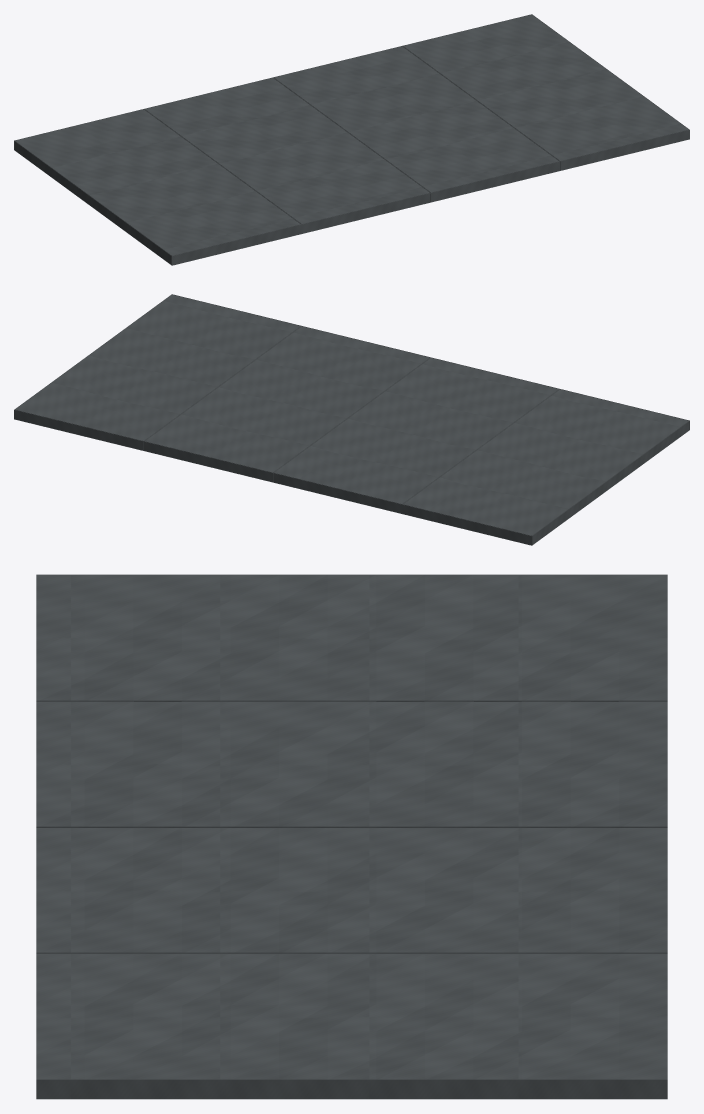
File: retreat_global_a4_roof.glb
The picture shows the model from 3 angles, top to bottom: view 1: azimuth 30°, elevation 25°; view 2: azimuth 150°, elevation 25°; view 3: azimuth 270°, elevation 25°; orthographic projection. The views are drawn at different scales.
Parts seen in each view (by area): view 1: VTT_Optional_Rock_Ceiling_0, VTT_Optional_Rock_Ceiling_2, VTT_Optional_Rock_Ceiling_3, VTT_Optional_Rock_Ceiling_1; view 2: VTT_Optional_Rock_Ceiling_0, VTT_Optional_Rock_Ceiling_2, VTT_Optional_Rock_Ceiling_3, VTT_Optional_Rock_Ceiling_1; view 3: VTT_Optional_Rock_Ceiling_3, VTT_Optional_Rock_Ceiling_2, VTT_Optional_Rock_Ceiling_1, VTT_Optional_Rock_Ceiling_0.
Boxes of the visible parts, x1,y1,x2,y2 form: VTT_Optional_Rock_Ceiling_0: (14, 109, 302, 265); VTT_Optional_Rock_Ceiling_2: (272, 45, 560, 202); VTT_Optional_Rock_Ceiling_3: (402, 14, 689, 170); VTT_Optional_Rock_Ceiling_1: (144, 77, 431, 233); VTT_Optional_Rock_Ceiling_0: (401, 389, 689, 545); VTT_Optional_Rock_Ceiling_2: (143, 325, 431, 482); VTT_Optional_Rock_Ceiling_3: (14, 294, 301, 450); VTT_Optional_Rock_Ceiling_1: (272, 357, 560, 513); VTT_Optional_Rock_Ceiling_3: (36, 952, 667, 1099); VTT_Optional_Rock_Ceiling_2: (36, 826, 667, 954); VTT_Optional_Rock_Ceiling_1: (36, 700, 667, 828); VTT_Optional_Rock_Ceiling_0: (36, 574, 667, 701).
Size of the model in its own units: 12.03 by 0.22 by 6.35.
Materials: 1 (1 with a texture image).
